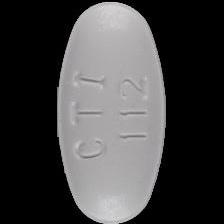43063-340: (0, 0, 224, 224)
